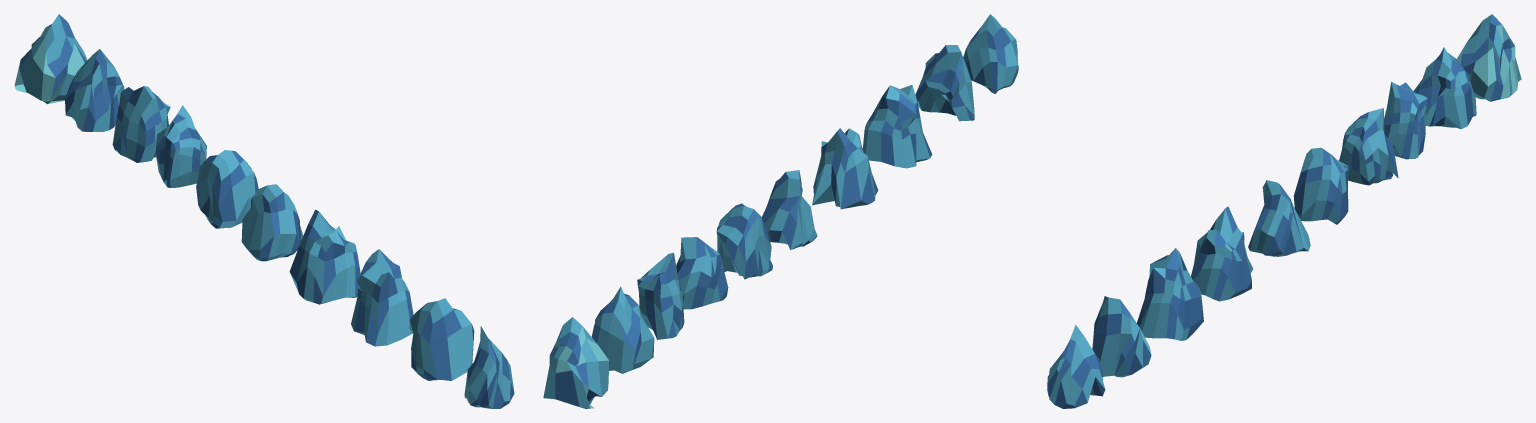
The model's file is Ice1-10.fbx.
3 renders of one model, left to right at view 1: azimuth 30°, elevation 25°; view 2: azimuth 150°, elevation 25°; view 3: azimuth 330°, elevation 25°, orthographic.
Parts seen in each view (by area): view 1: Ice.006, Ice.008, Ice.007, Ice.003, Ice.004, Ice.005, Ice.000, Ice.001, Ice.002, Ice.009; view 2: Ice.003, Ice.007, Ice.006, Ice.000, Ice.008, Ice.004, Ice.009, Ice.001, Ice.005, Ice.002; view 3: Ice.007, Ice.006, Ice.003, Ice.008, Ice.004, Ice.000, Ice.002, Ice.009, Ice.005, Ice.001.
Boxes of the visible parts, x1=… form: Ice.006: x1=289, y1=209, x2=360, y2=304; Ice.008: x1=409, y1=298, x2=474, y2=380; Ice.007: x1=351, y1=249, x2=413, y2=346; Ice.003: x1=14, y1=14, x2=87, y2=104; Ice.004: x1=196, y1=150, x2=258, y2=228; Ice.005: x1=241, y1=184, x2=303, y2=261; Ice.000: x1=65, y1=49, x2=124, y2=131; Ice.001: x1=112, y1=86, x2=170, y2=162; Ice.002: x1=155, y1=105, x2=206, y2=187; Ice.009: x1=464, y1=326, x2=514, y2=408; Ice.003: x1=543, y1=317, x2=608, y2=408; Ice.007: x1=862, y1=85, x2=932, y2=168; Ice.006: x1=812, y1=128, x2=878, y2=209; Ice.000: x1=591, y1=286, x2=654, y2=373; Ice.008: x1=915, y1=45, x2=974, y2=121; Ice.004: x1=716, y1=203, x2=772, y2=279; Ice.009: x1=963, y1=14, x2=1018, y2=93; Ice.001: x1=637, y1=252, x2=684, y2=339; Ice.005: x1=761, y1=170, x2=817, y2=249; Ice.002: x1=676, y1=237, x2=728, y2=309; Ice.007: x1=1137, y1=248, x2=1203, y2=340; Ice.006: x1=1191, y1=206, x2=1253, y2=301; Ice.003: x1=1456, y1=14, x2=1521, y2=101; Ice.008: x1=1092, y1=296, x2=1151, y2=377; Ice.004: x1=1293, y1=147, x2=1348, y2=224; Ice.000: x1=1413, y1=47, x2=1476, y2=129; Ice.002: x1=1339, y1=108, x2=1398, y2=185; Ice.009: x1=1047, y1=325, x2=1105, y2=408; Ice.005: x1=1248, y1=180, x2=1310, y2=256; Ice.001: x1=1384, y1=82, x2=1427, y2=159.
Bounding box in the file's own units: 693 × 845 × 8473.
Materials: 1 (1 with a texture image).
